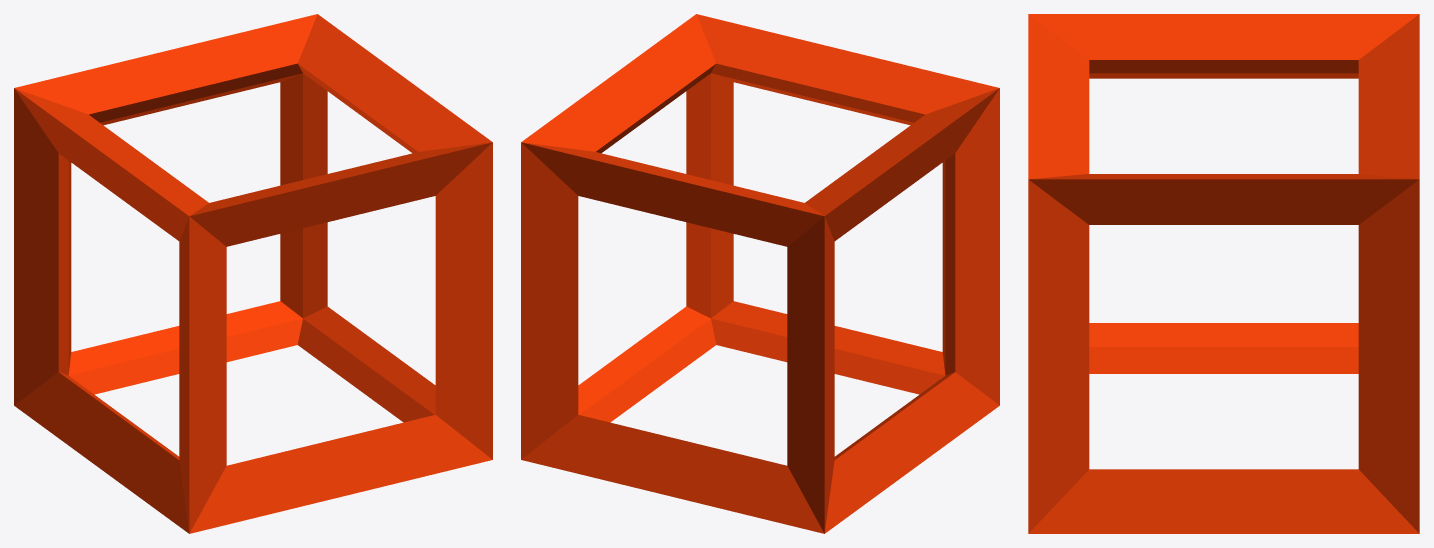
Rendered from 3dviz.glb.
3 views of the same model, side by side, from view 1: azimuth 30°, elevation 25°; view 2: azimuth 150°, elevation 25°; view 3: azimuth 270°, elevation 25° (orthographic). The views are drawn at different scales.
Visible parts, largest first — view 1: Cube; view 2: Cube; view 3: Cube.
Part boxes in pixels (box(x1,y1,x2,y2)): Cube: box(14, 14, 492, 533); Cube: box(521, 14, 999, 533); Cube: box(1028, 14, 1419, 533).
Size of the model in its own units: 2.26 by 2.26 by 2.26.
